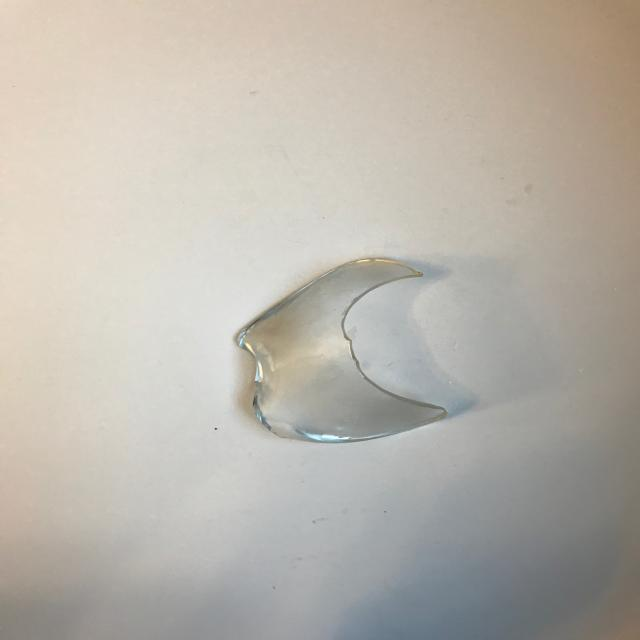glass: (230, 254, 450, 446)
